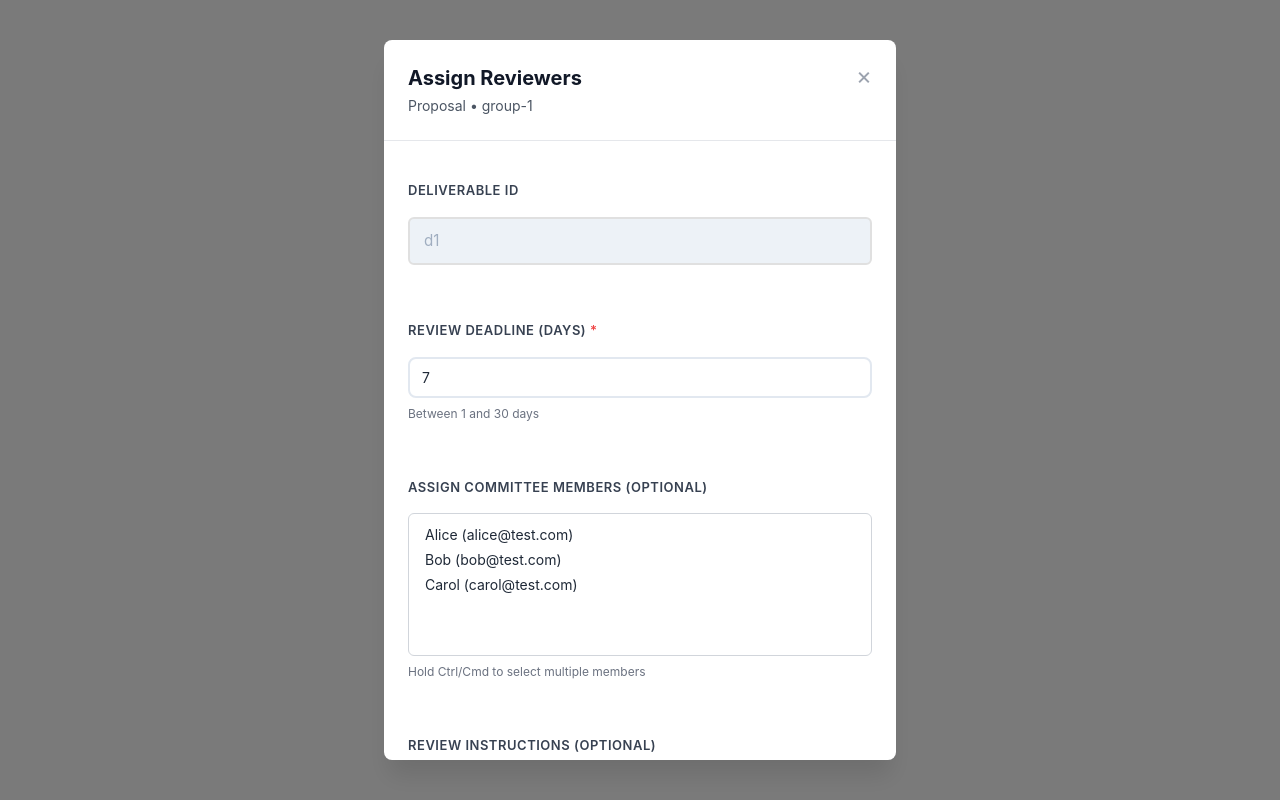
Test: ReviewAssignmentForm › API Integration - Submit › success response shows confirmation message
The width and height of the screenshot is (1280, 800).
Select "Alice (alice@test.com)" in the dropdown at point(640, 585), box [408,513,872,656]
(page scrolled)
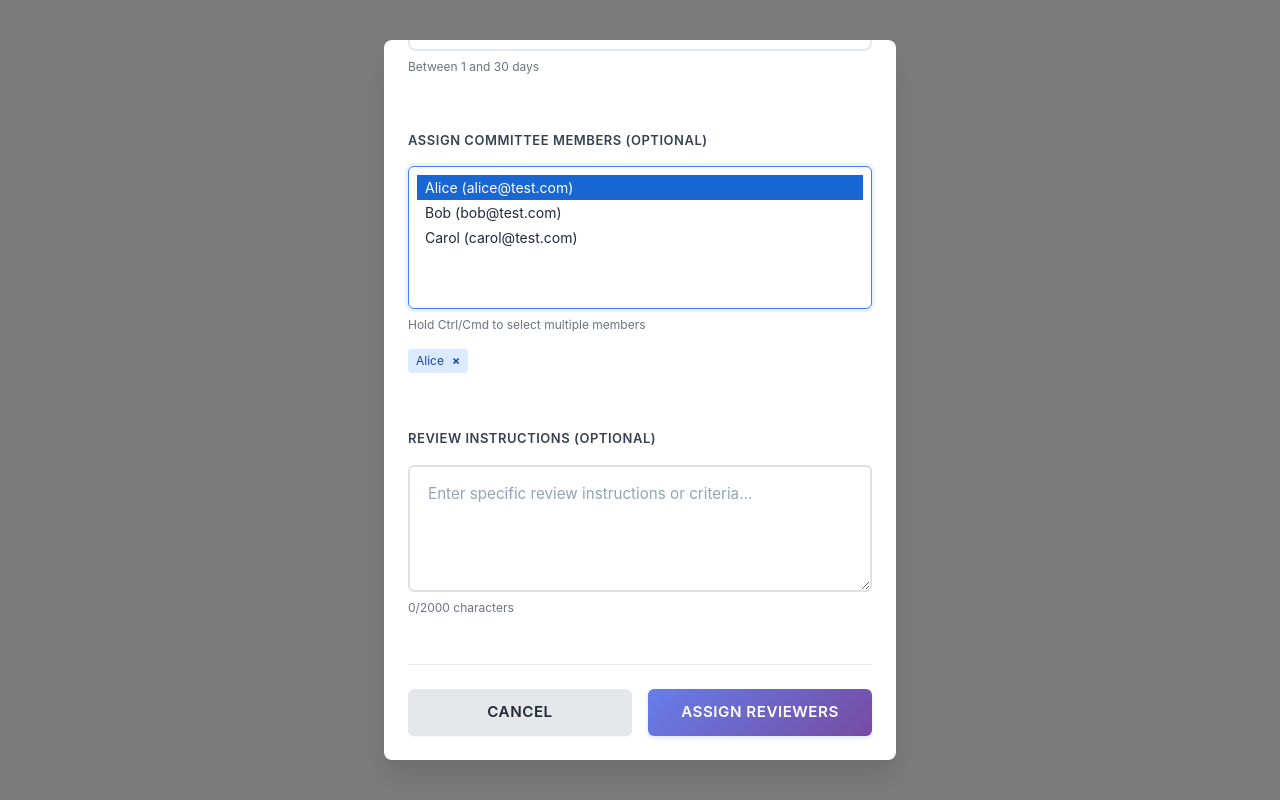
Click the button "Assign Reviewers".
click(760, 712)  # box [648,689,872,736]
(page scrolled)
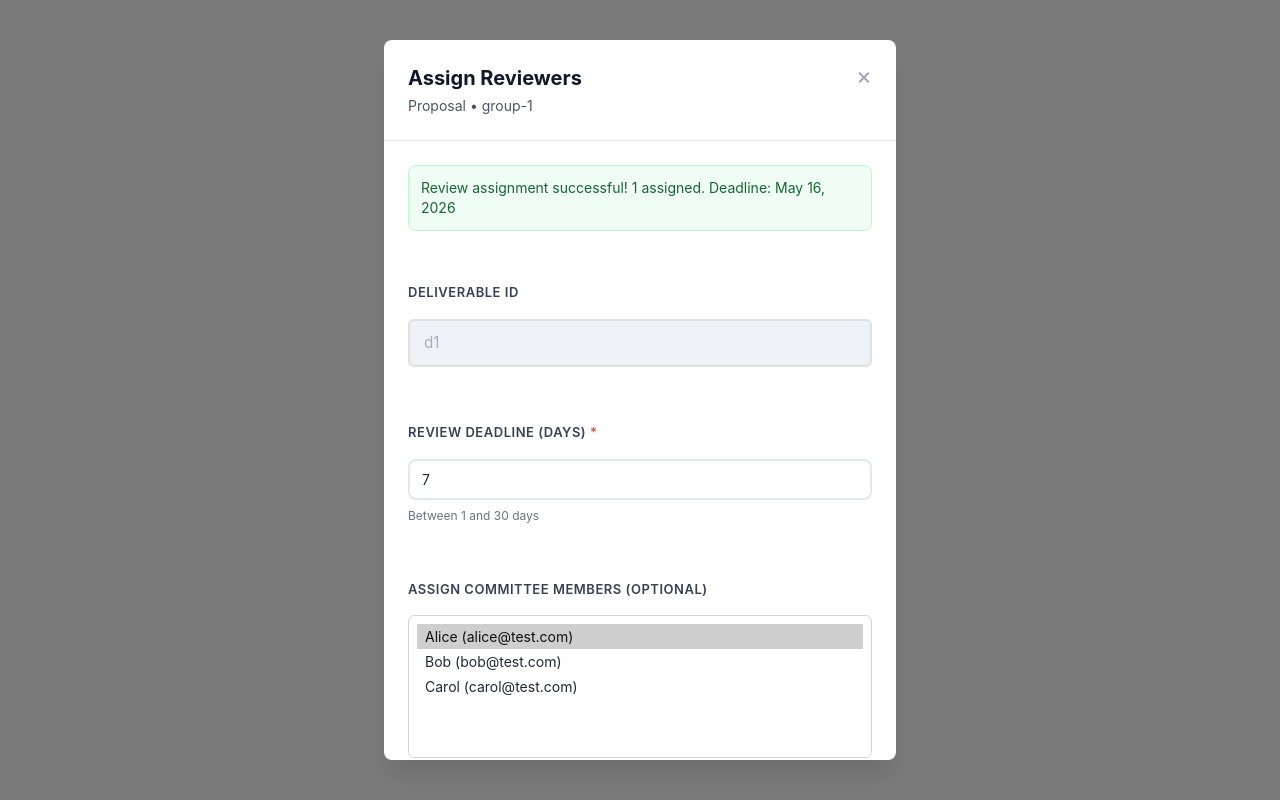
Now the text "Review assignment successful" is shown, box [421,179,825,216]
